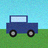vehicle: (6, 16, 38, 37)
